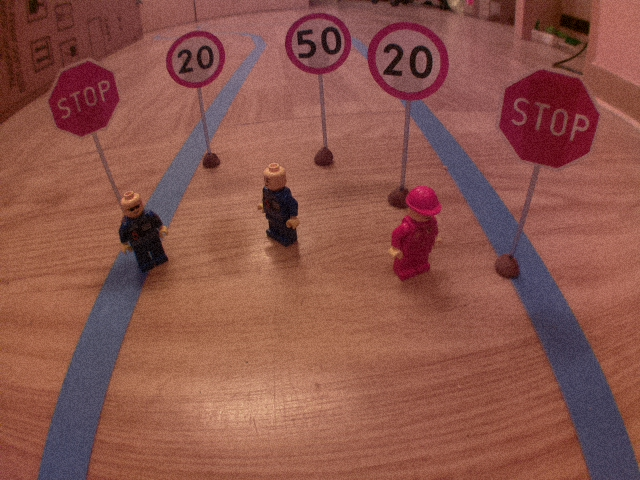LEGO_person: (387, 182, 447, 284), (115, 188, 173, 278), (253, 160, 303, 252)
ogr_20: (362, 18, 452, 105), (162, 28, 228, 92)
ogr_50: (281, 9, 355, 78)
stop: (493, 65, 608, 172), (41, 56, 124, 140)
